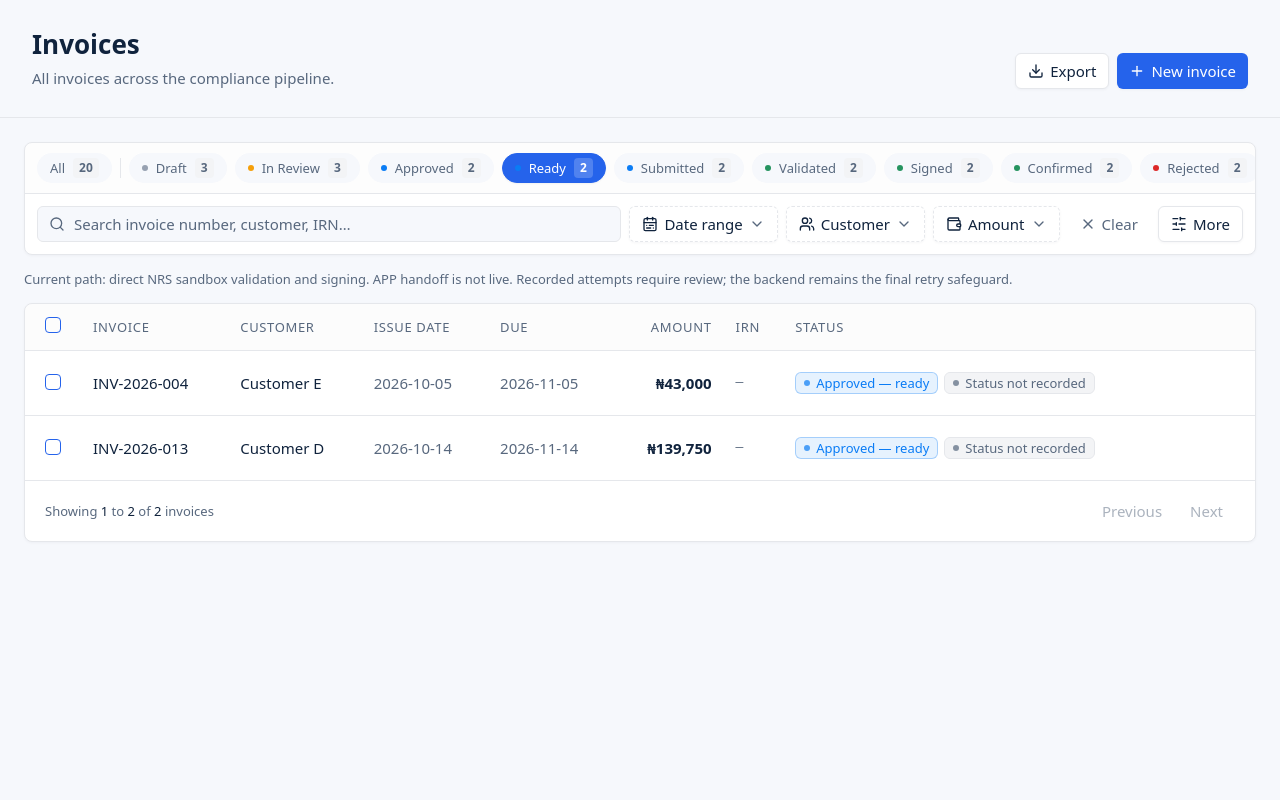
Test case: Invoices Page Workflow › 1. URL-driven status filtering › clears the status filter when 'Clear filters' is clicked
Click the button "Clear" at (1109, 224), box [1068,206,1150,242]
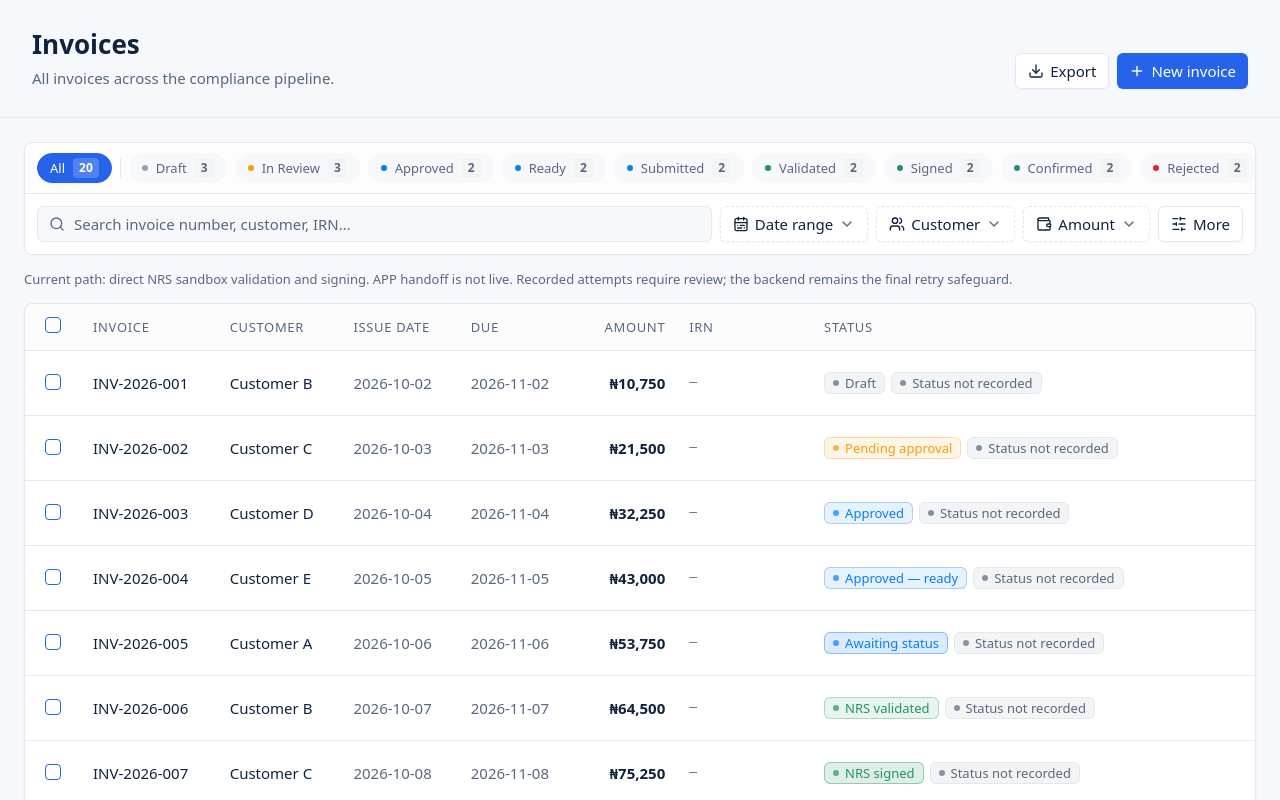
Expected: the button "All 20" has class "bg-primary", [37,152,112,182]
